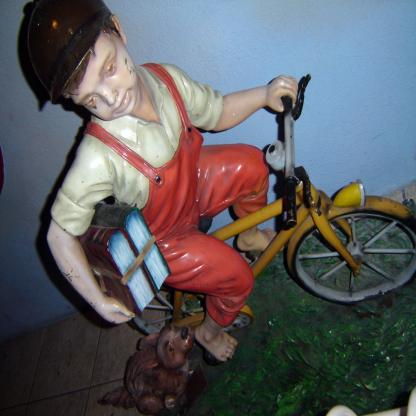Helmet: (18, 0, 121, 111)
